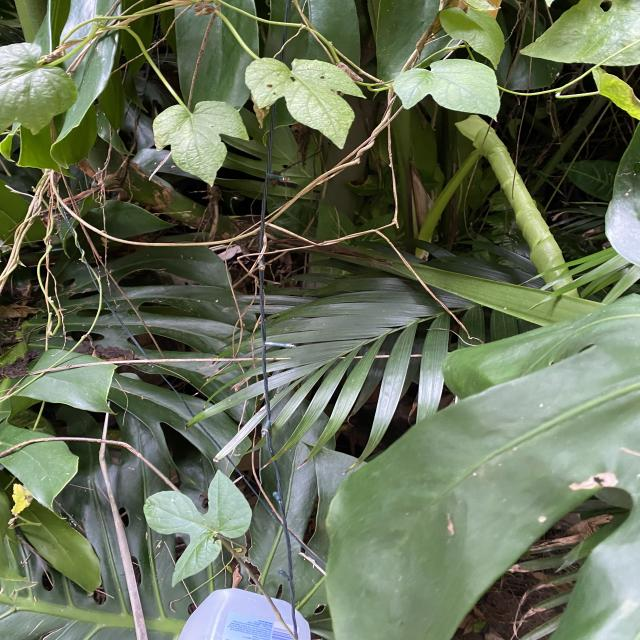bottle: (184, 584, 330, 640)
cloth: (117, 106, 184, 186)
